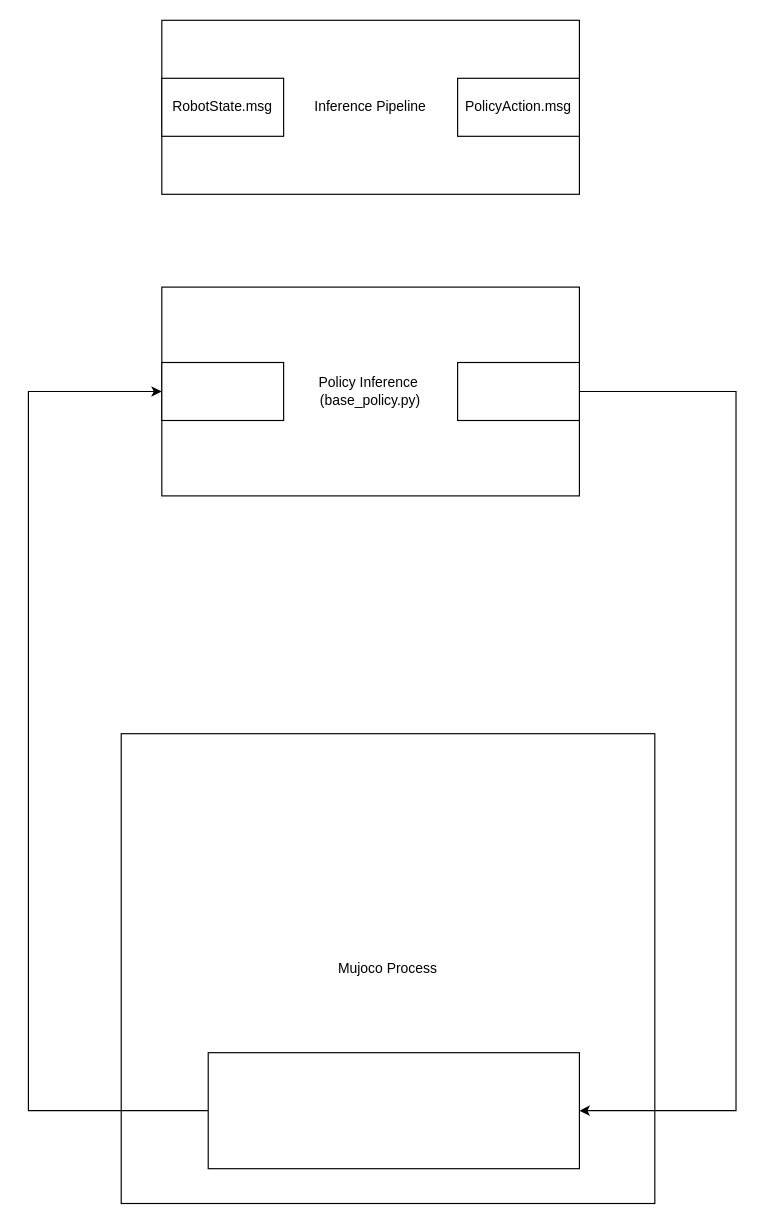
This 766x1224 diagram has some shape labels left out. The shapes that lost their labels are listed below. From the top down, each one's centre as x and y in pixels, then its label:
At [222,390]: "StateProcessor".
At [517,390]: "CommandSender".
At [393,1110]: "RobotBridge BaseSim.compute_torques(self.robot_bridge.low_cmd)".
